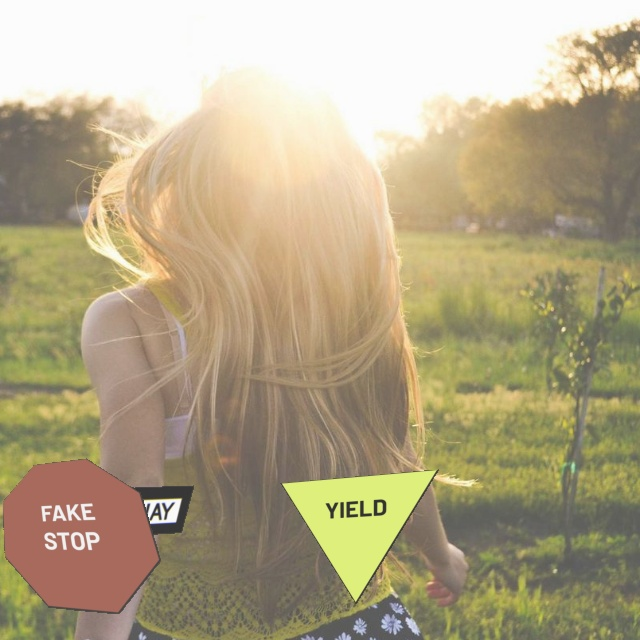FAKE_STOP: (2, 458, 161, 614)
ONE_WAY_ left: (35, 485, 194, 541)
YIELD: (280, 469, 439, 604)
